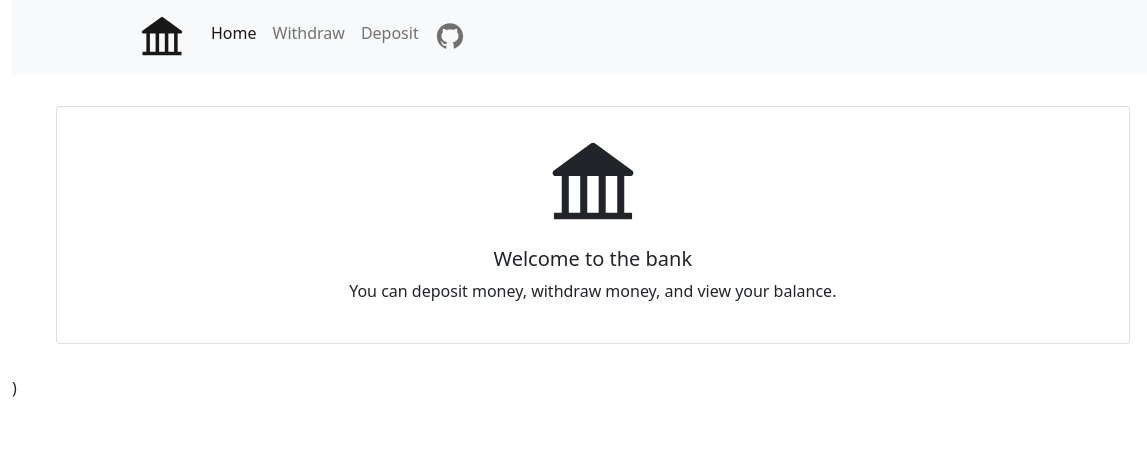
Scenario: test deposit form
Step 1. Click the link with test id "deposit-link" → (390, 33), box [361, 22, 419, 44]
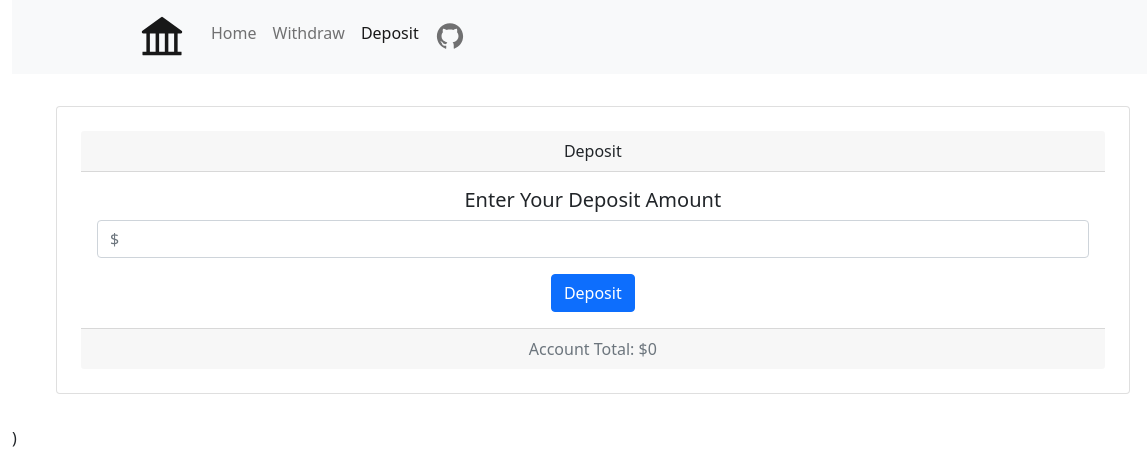
Step 2. Type "5" into the number field with test id "transaction-input" → (593, 239), box [97, 220, 1089, 258]
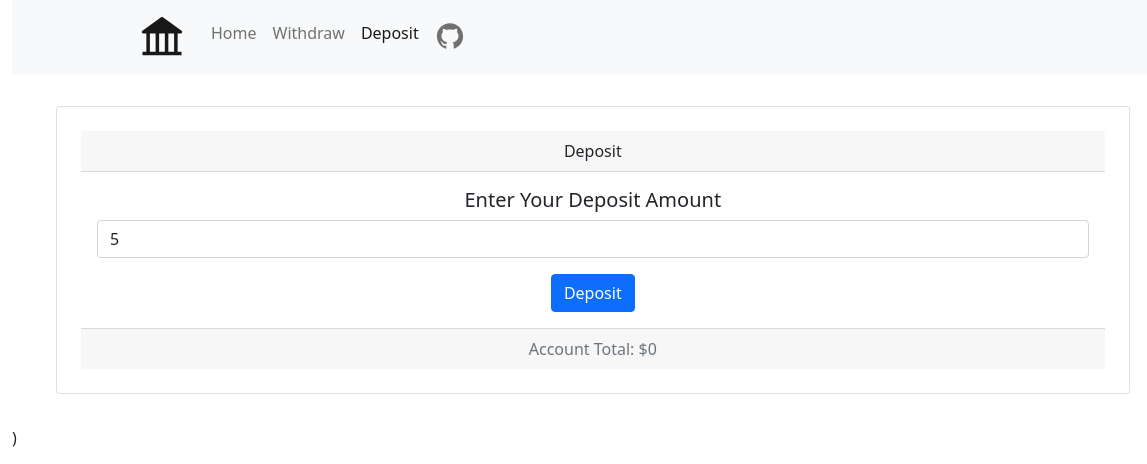
Step 3. Click the button with test id "transaction-button" → (593, 293), box [551, 274, 635, 312]
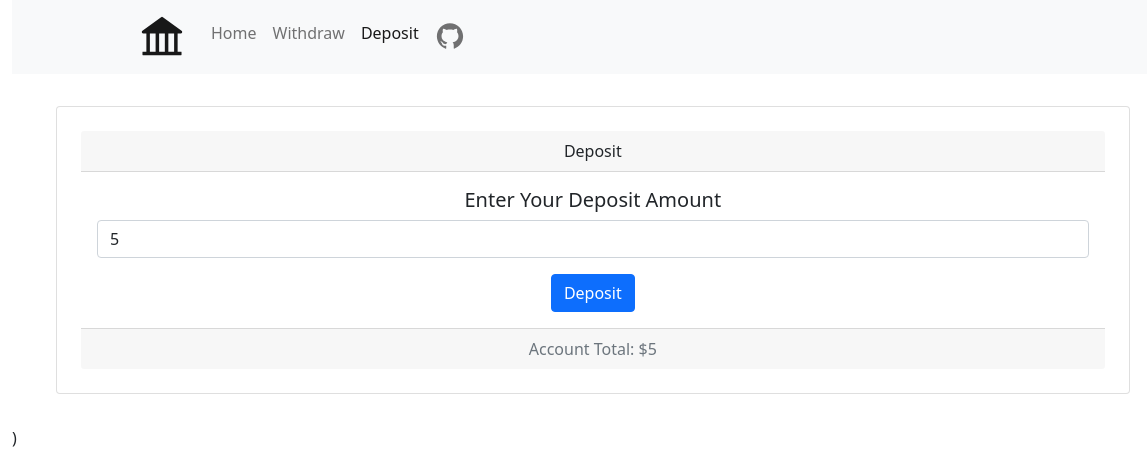
Expected: the text "Account Total: $5" is shown, [81, 328, 1105, 369]
